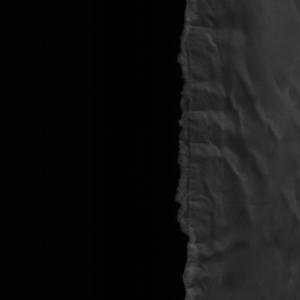Damage: (173, 1, 203, 300)
Wrinkle: (209, 1, 300, 300)
